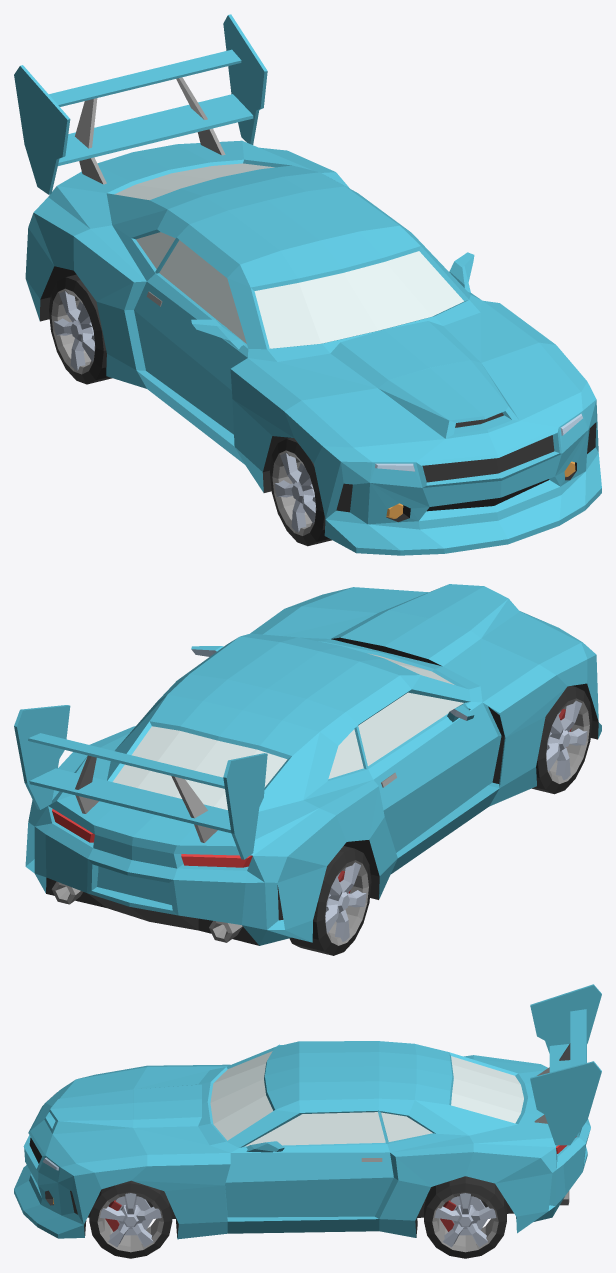
File: camaro.fbx
The picture shows the model from 3 angles, top to bottom: view 1: azimuth 30°, elevation 25°; view 2: azimuth 150°, elevation 25°; view 3: azimuth 270°, elevation 25°; orthographic projection. The views are drawn at different scales.
Parts seen in each view (by area): view 1: camaro_body, camaro_tuning_1, camaro_wheel_RR, camaro_wheel_FR; view 2: camaro_body, camaro_tuning_1, camaro_wheel_RR, camaro_wheel_FR; view 3: camaro_body, camaro_tuning_1, camaro_wheel_RL, camaro_wheel_FL, camaro_brakedisk_FL.
Boxes of the visible parts, x1,y1,x2,y2 form: camaro_body: [48, 140, 588, 529]; camaro_tuning_1: [14, 14, 601, 555]; camaro_wheel_RR: [49, 274, 112, 384]; camaro_wheel_FR: [270, 438, 331, 546]; camaro_body: [45, 587, 582, 945]; camaro_tuning_1: [14, 584, 601, 945]; camaro_wheel_RR: [289, 846, 371, 955]; camaro_wheel_FR: [532, 686, 592, 794]; camaro_body: [24, 1041, 590, 1235]; camaro_tuning_1: [14, 984, 601, 1239]; camaro_wheel_RL: [424, 1176, 506, 1258]; camaro_wheel_FL: [89, 1180, 172, 1258]; camaro_brakedisk_FL: [105, 1196, 152, 1235].
Size of the model in its own units: 3.96 by 1.39 by 1.66.
